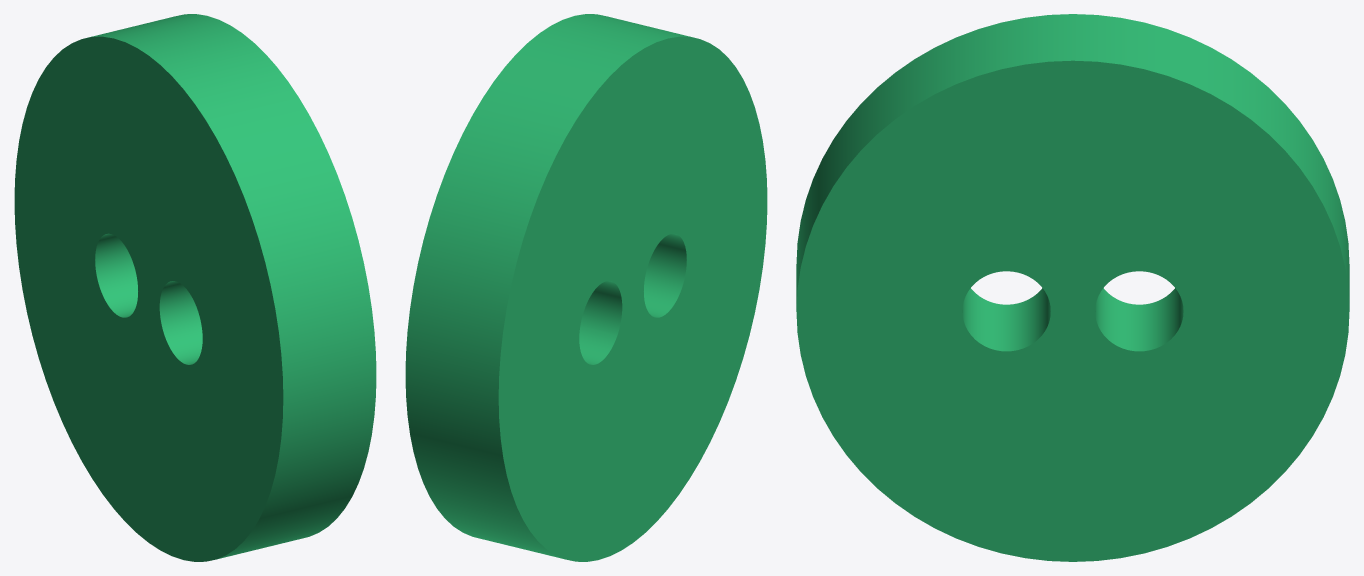
File: bs2310-3-main-cap-green-dual-4mm.glb
3 renders of one model, left to right at view 1: azimuth 30°, elevation 25°; view 2: azimuth 150°, elevation 25°; view 3: azimuth 270°, elevation 25°, orthographic. The views are drawn at different scales.
Visible parts, largest first — view 1: Main_Cap_BS2310_3_Green_Dual_4mm_Functional_Geometry; view 2: Main_Cap_BS2310_3_Green_Dual_4mm_Functional_Geometry; view 3: Main_Cap_BS2310_3_Green_Dual_4mm_Functional_Geometry.
Part boxes in pixels (x1,y1,x2,y2): Main_Cap_BS2310_3_Green_Dual_4mm_Functional_Geometry: (14, 14, 376, 561); Main_Cap_BS2310_3_Green_Dual_4mm_Functional_Geometry: (405, 14, 767, 561); Main_Cap_BS2310_3_Green_Dual_4mm_Functional_Geometry: (796, 14, 1349, 561).
Size of the model in its own units: 0.005 by 0.025 by 0.025.
